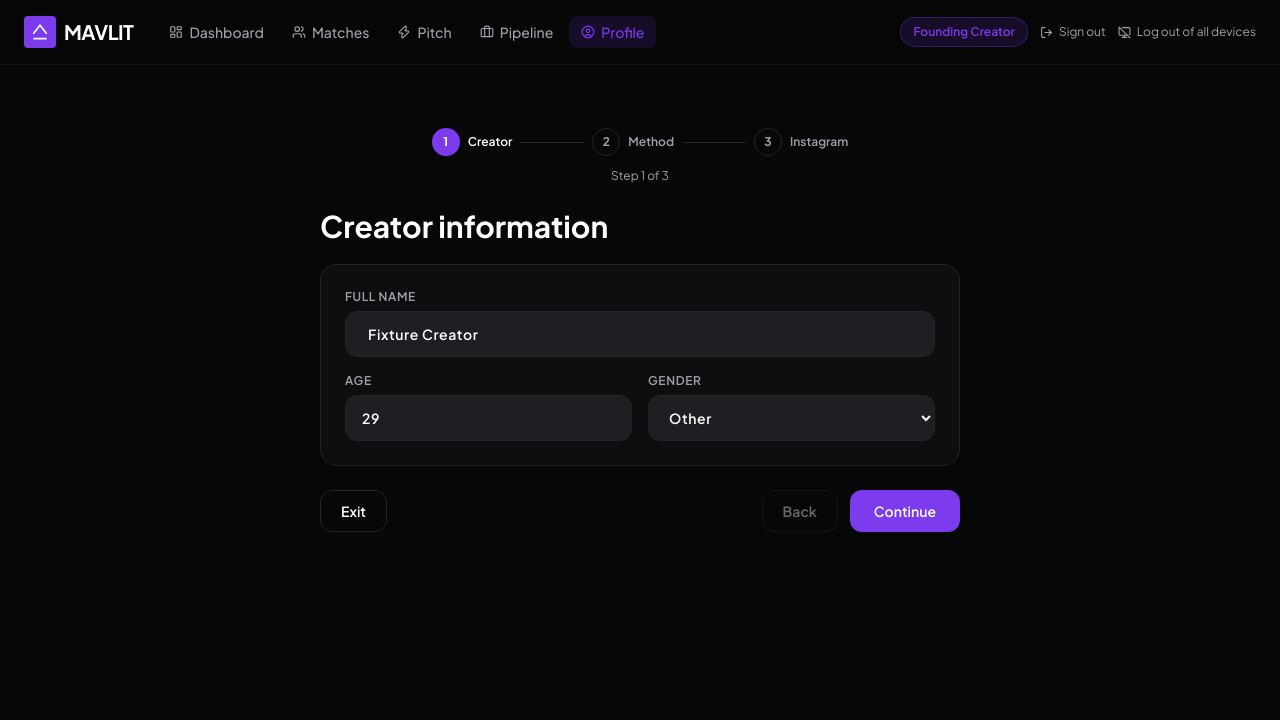
Scenario: three-page Instagram profile › validates creator information before Continue and shows errors on page one
The width and height of the screenshot is (1280, 720).
Expected: the element with test id "profile-wizard" is shown, [304,80,976,580]
Step 1. Clear the field with test id "input-full-name" → (640, 334), box [345,311,935,357]
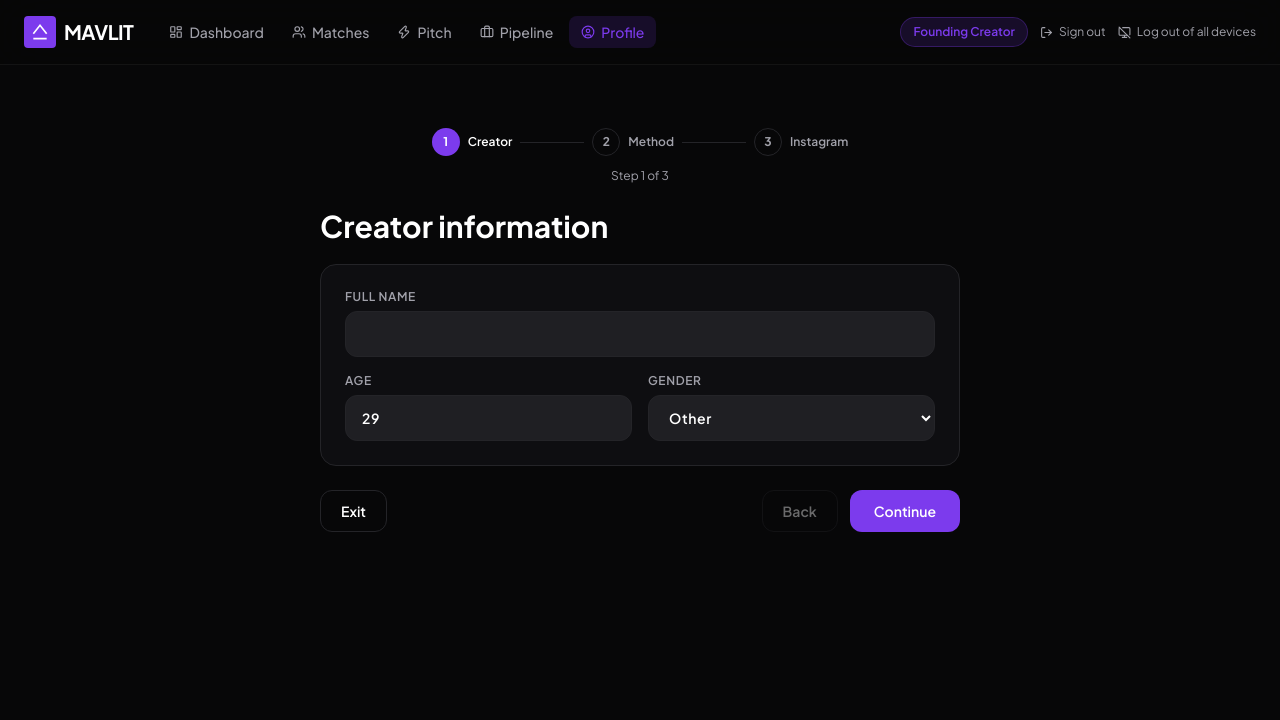
Step 2. Click the button "Continue" → (905, 511), box [850,490,960,532]
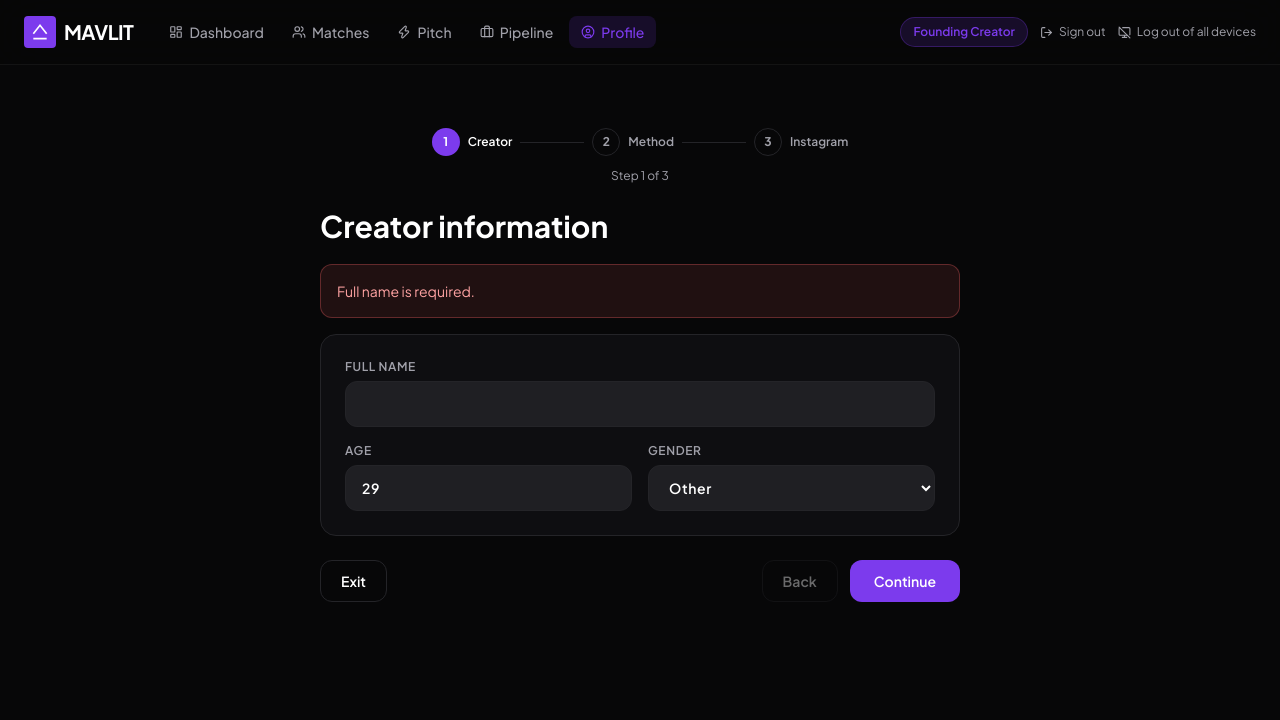
Expected: the text "Step 1 of 3" is shown, [611,168,669,183]
Expected: the message shows "Full name is required", [337,282,475,300]
